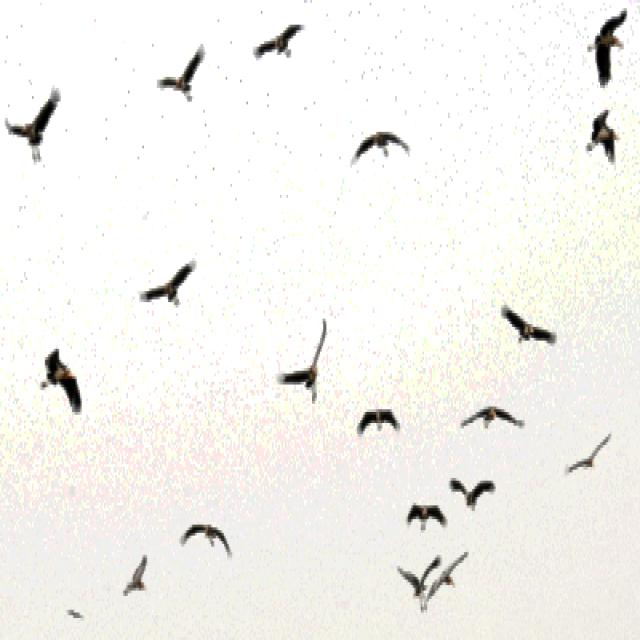birds: (276, 318, 331, 412), (4, 82, 63, 168), (498, 291, 559, 361), (37, 338, 86, 422), (135, 250, 200, 312), (584, 6, 628, 92), (344, 126, 413, 178), (154, 45, 210, 108), (251, 14, 306, 70), (176, 517, 236, 563), (458, 400, 526, 438), (398, 555, 439, 618), (578, 107, 622, 164), (566, 428, 612, 481), (448, 472, 498, 512), (355, 400, 400, 443), (405, 493, 448, 537), (429, 552, 469, 595), (120, 550, 150, 604)
